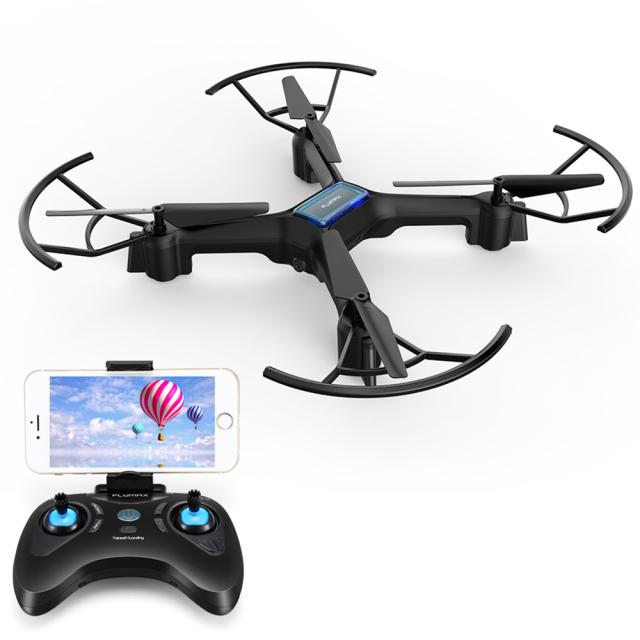drone: (0, 65, 628, 421)
